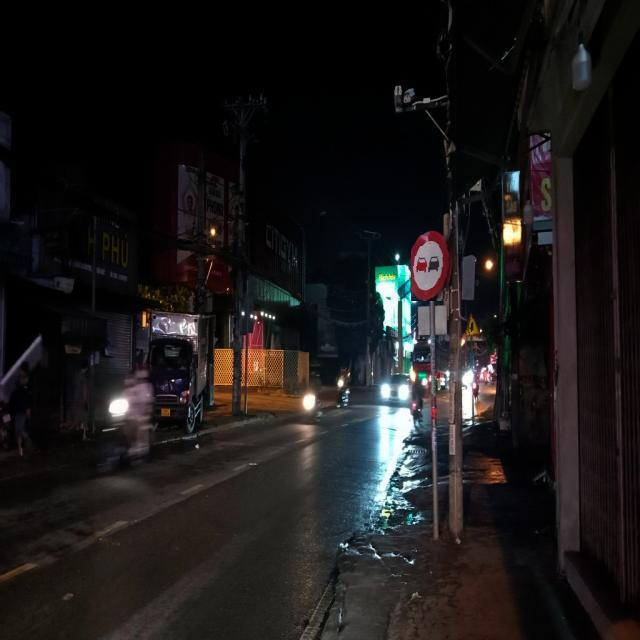cam_vuot: (411, 229, 454, 301)
giao_nhau_voi_duong_khong_uu_tien: (463, 312, 480, 336)
